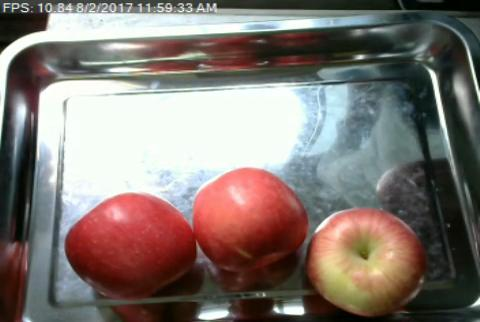apple: (65, 193, 196, 300), (307, 208, 426, 316), (193, 168, 305, 271)
